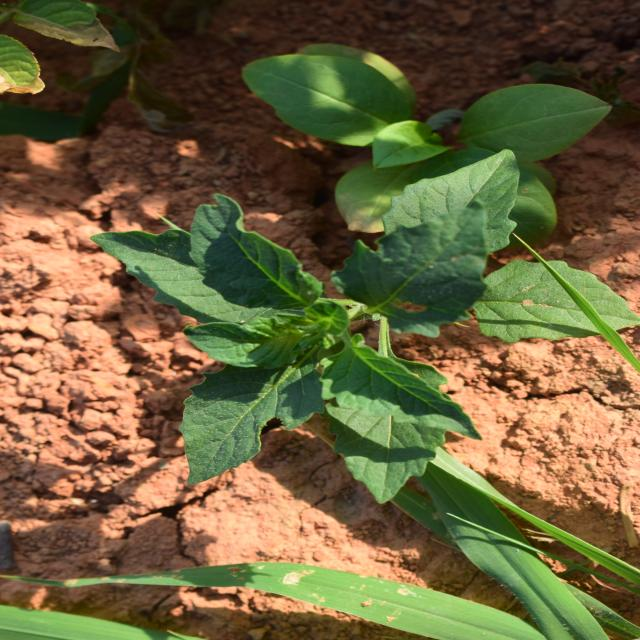Black_nightshade: (154, 118, 468, 549)
